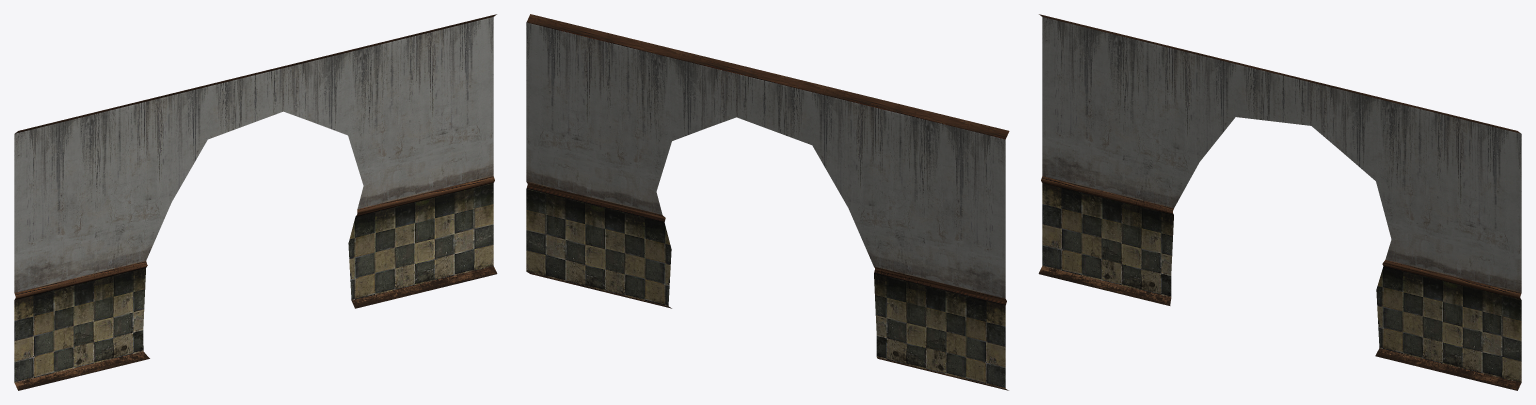
The model's file is WallHole.fbx.
3 renders of one model, left to right at view 1: azimuth 30°, elevation 25°; view 2: azimuth 150°, elevation 25°; view 3: azimuth 330°, elevation 25°, orthographic.
Visible parts, largest first — view 1: Wall; view 2: Wall; view 3: Wall.
Boxes of the visible parts, x1,y1,x2,y2 form: Wall: (14,14,497,390); Wall: (526,14,1009,390); Wall: (1038,14,1521,390).
Size of the model in its own units: 288 by 150 by 4.1.
